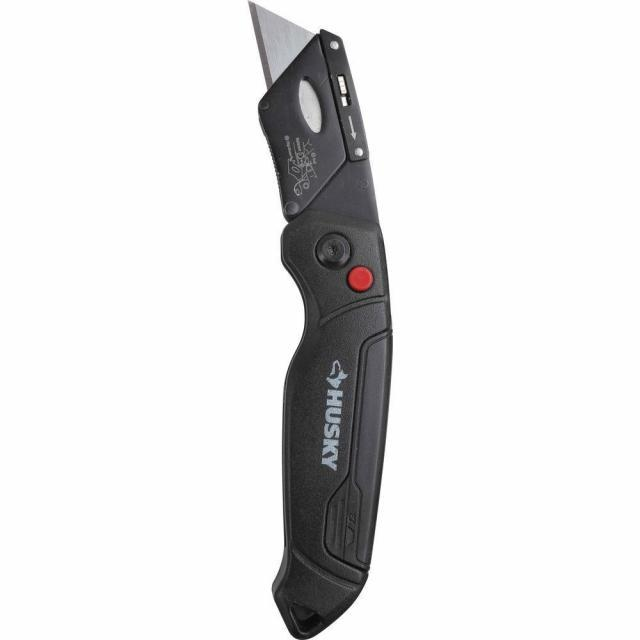estilete: (251, 3, 391, 639)
